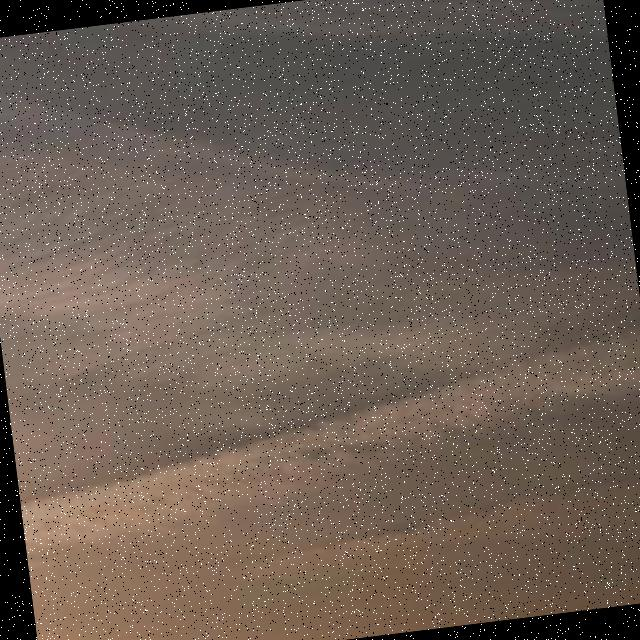Ct: (1, 34, 640, 640)
